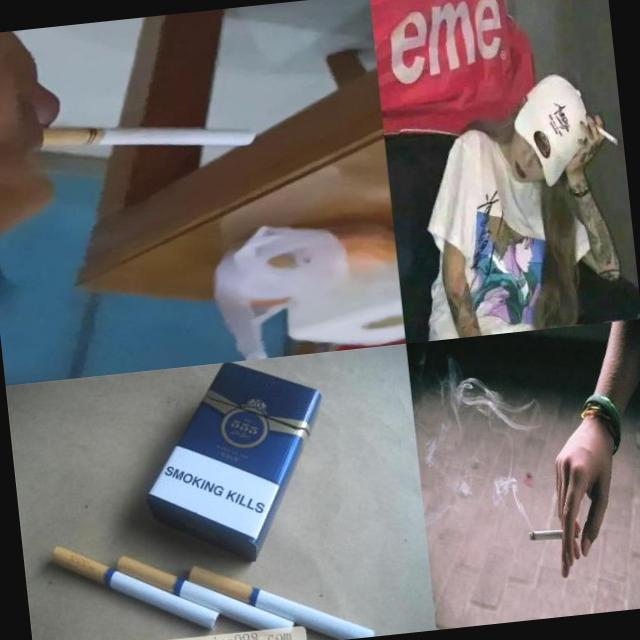cigarette: (49, 529, 222, 640), (114, 537, 296, 640), (186, 546, 374, 640), (39, 105, 261, 168), (527, 524, 580, 544), (590, 120, 618, 148)
